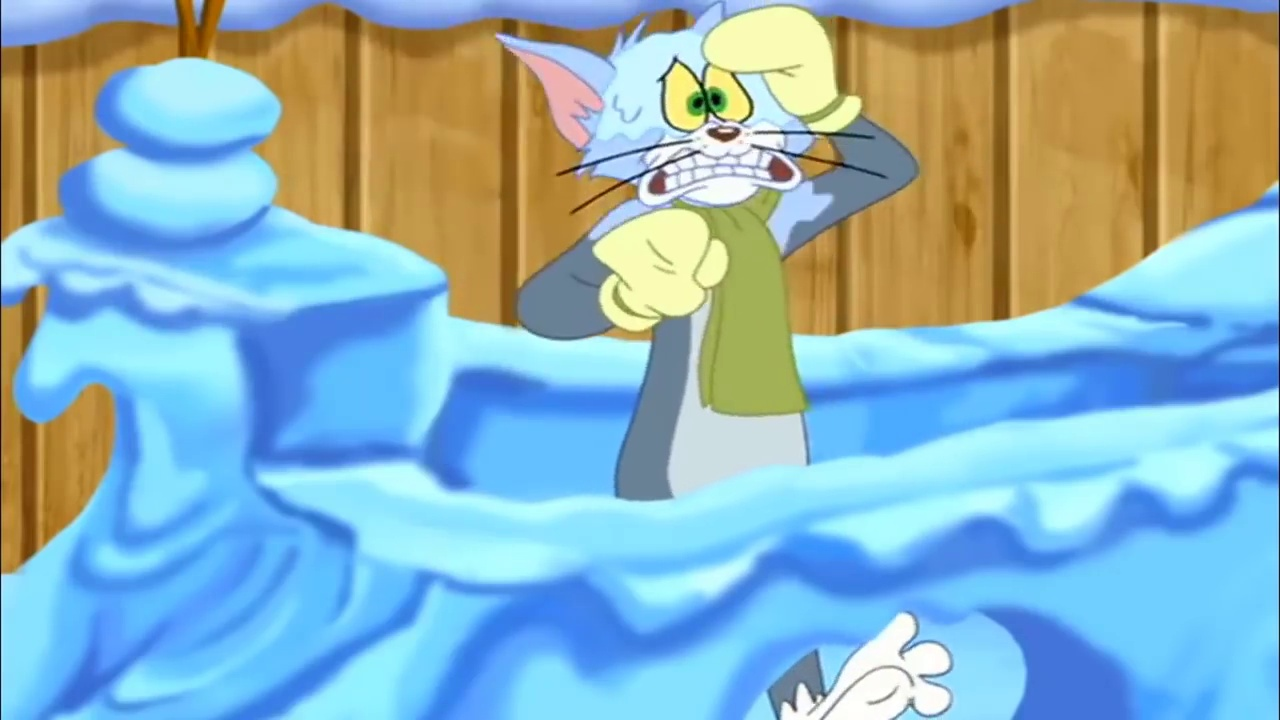face: (633, 49, 809, 207)
